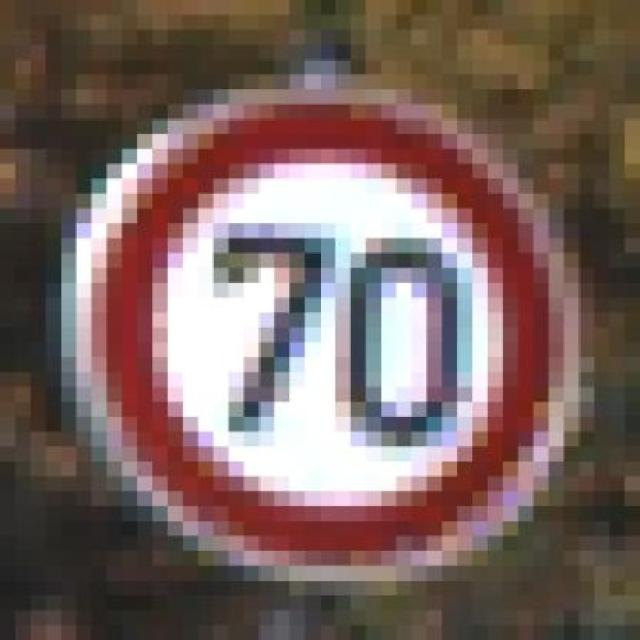forb_speed_over_70: (80, 90, 569, 578)
